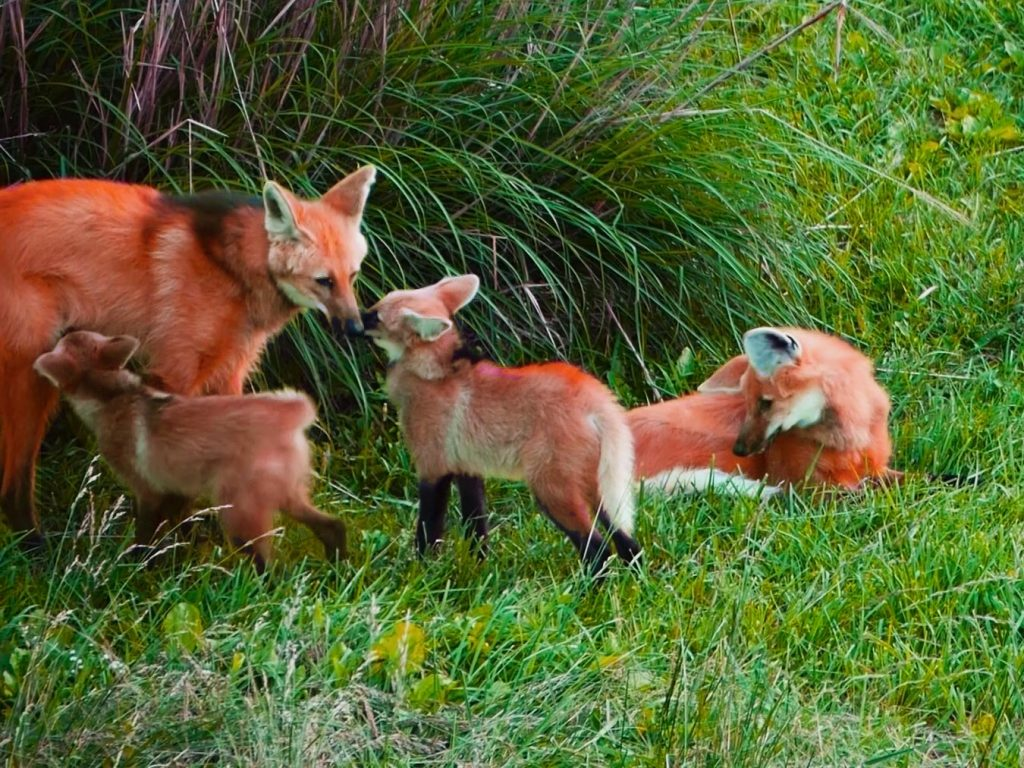LoboGuara: (335, 276, 646, 566), (27, 327, 345, 577), (2, 147, 374, 359), (607, 313, 889, 506)
